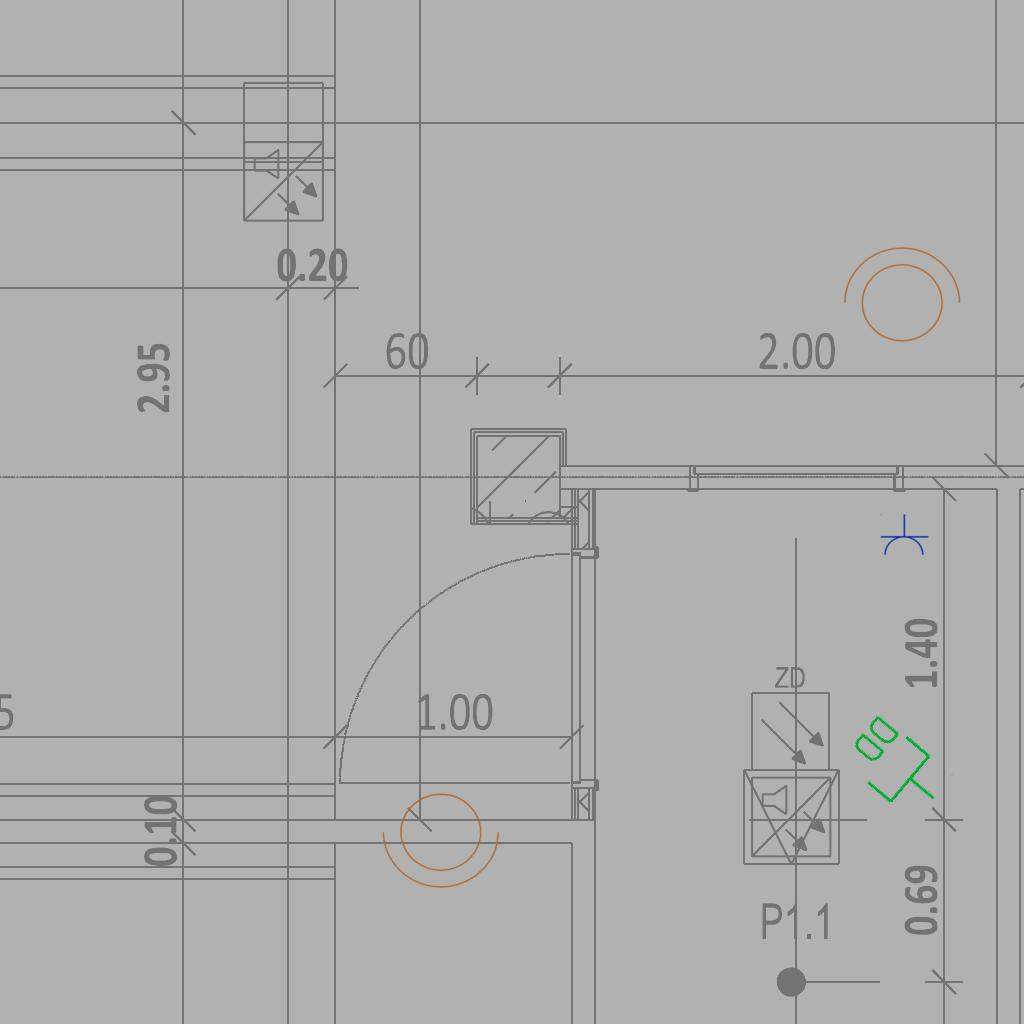Datenanschluss_zweifach: (834, 706, 959, 827)
Scheinwerfer_fuer_Alarmbeleuchtung: (833, 242, 965, 354), (378, 781, 510, 893)
Schukosteckdose_einfach: (879, 514, 929, 557)
